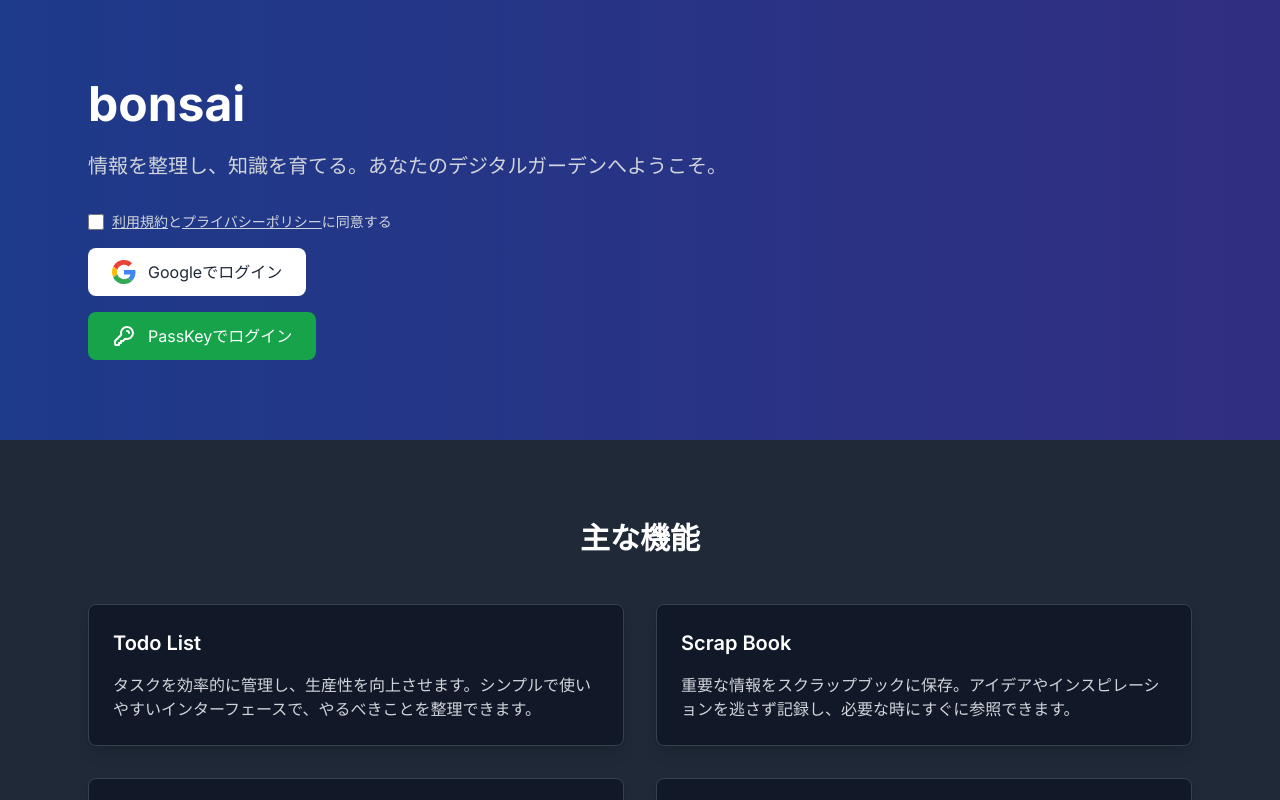
Test: TopPage passkey login › shows the error message when passkey authentication fails
Click the checkbox.
click(96, 222)  # box [88,214,104,230]
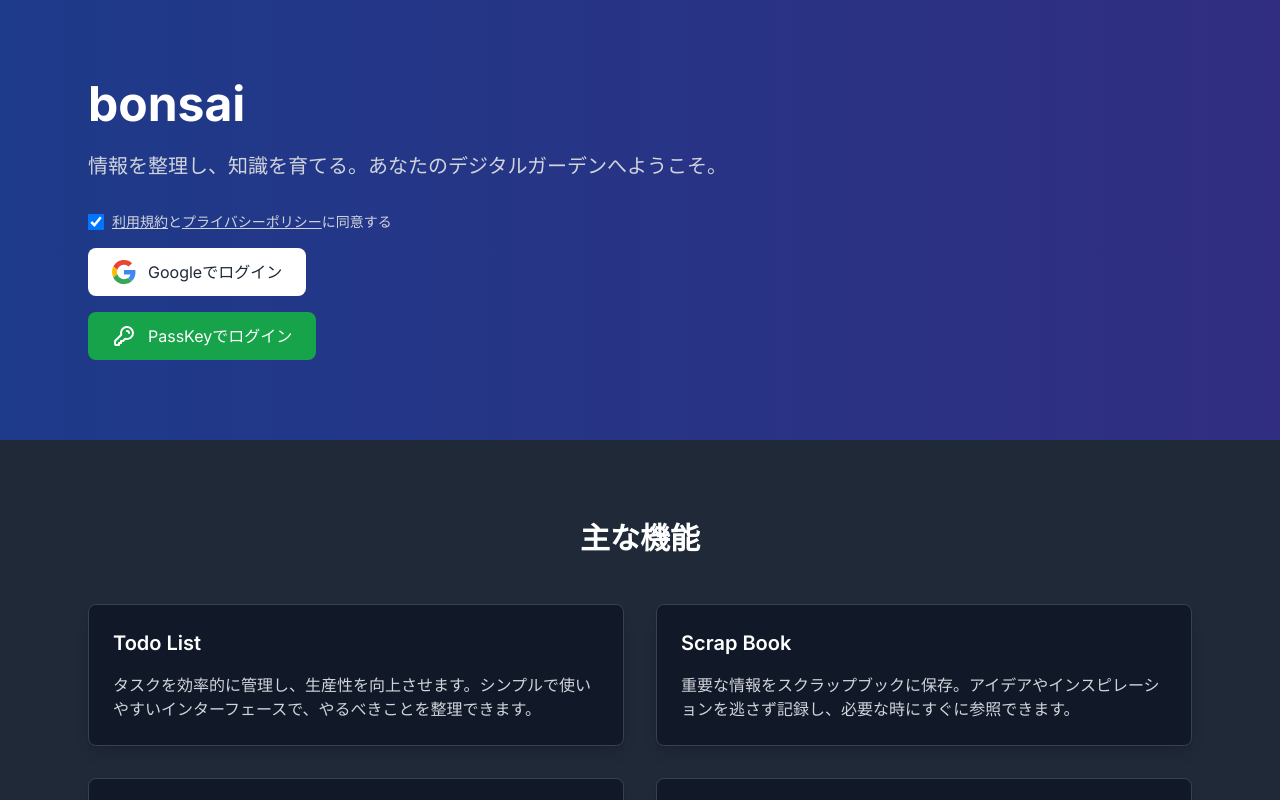
Click the button "PassKeyでログイン".
click(202, 336)  # box [88,312,316,360]
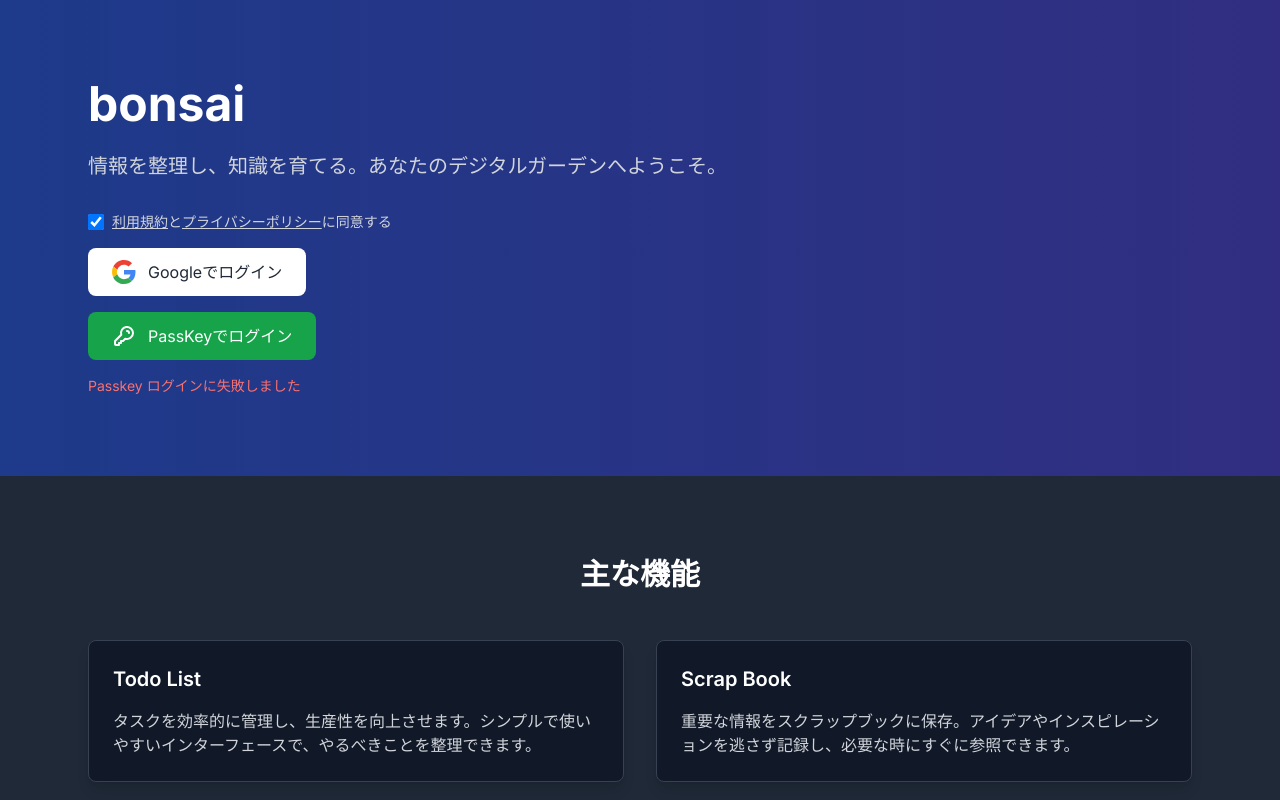
Expected: the text "Passkey ログインに失敗しました" is shown, [88,377,301,394]
